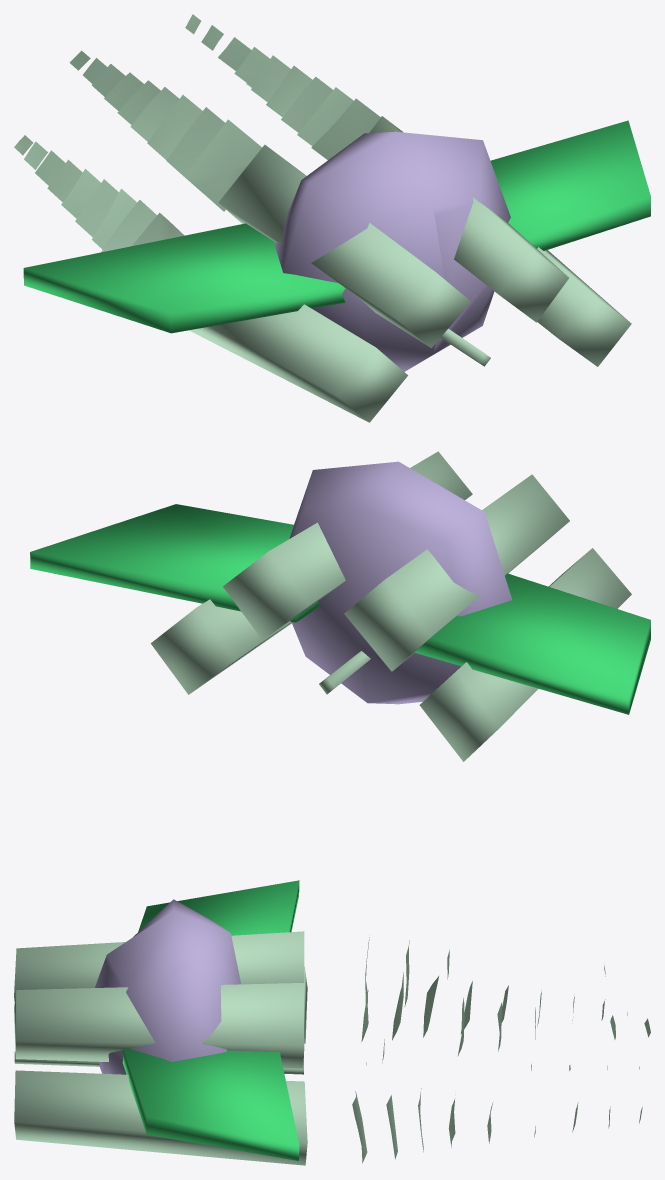
Rendered from ship_32.gltf.
3 views of the same model, one above another, from view 1: azimuth 30°, elevation 25°; view 2: azimuth 150°, elevation 25°; view 3: azimuth 270°, elevation 25° (orthographic). The views are drawn at different scales.
Visible parts, largest first — view 1: gtlf; view 2: gtlf; view 3: gtlf.
Boxes of the visible parts, x1=… form: gtlf: x1=14, y1=14, x2=650, y2=422; gtlf: x1=30, y1=451, x2=650, y2=761; gtlf: x1=14, y1=880, x2=650, y2=1165.
Bounding box in the file's own units: 2.07 × 0.8015 × 2.1.
